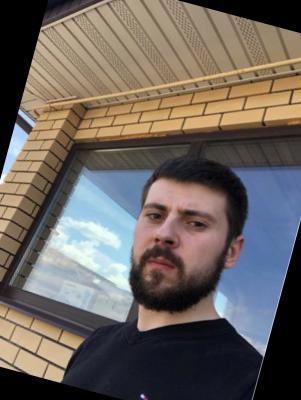without_mask: (114, 185, 237, 326)
